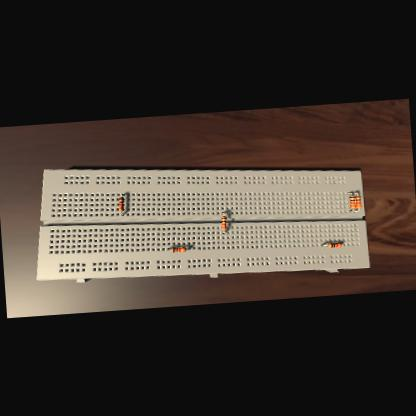breadboard: (30, 146, 370, 292)
resistor: (118, 197, 125, 211), (221, 216, 227, 230), (172, 246, 186, 252), (328, 242, 342, 248), (350, 196, 356, 209), (356, 195, 362, 208)
wire: (352, 192, 358, 194), (322, 244, 328, 246), (348, 193, 352, 195), (122, 210, 124, 214), (350, 209, 354, 211), (168, 248, 172, 250), (186, 248, 190, 250), (354, 209, 359, 210), (122, 194, 124, 196), (223, 212, 224, 216), (223, 230, 224, 232)
